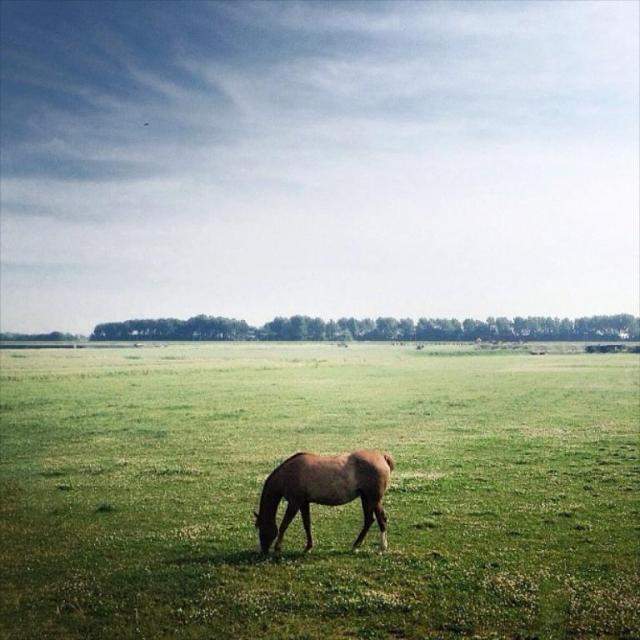Horse: (248, 444, 396, 560)
